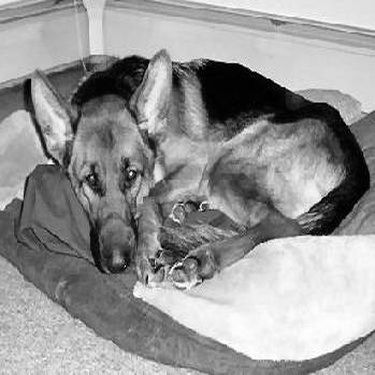dog: (25, 44, 372, 283)
